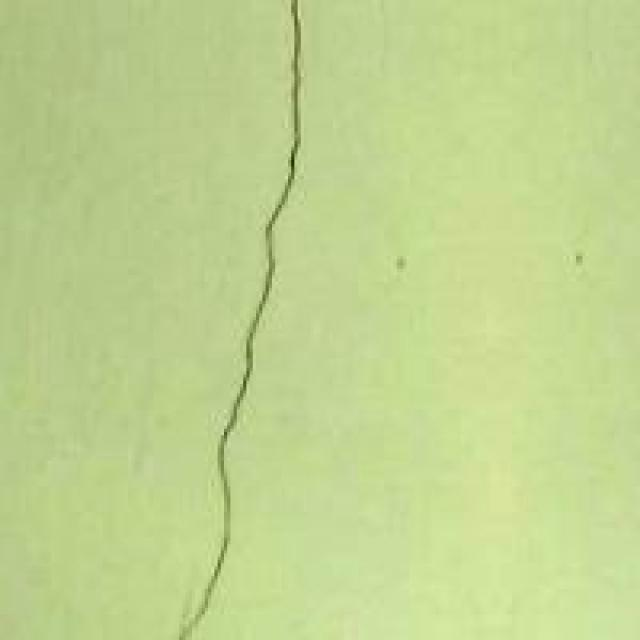crack: (160, 0, 350, 640)
